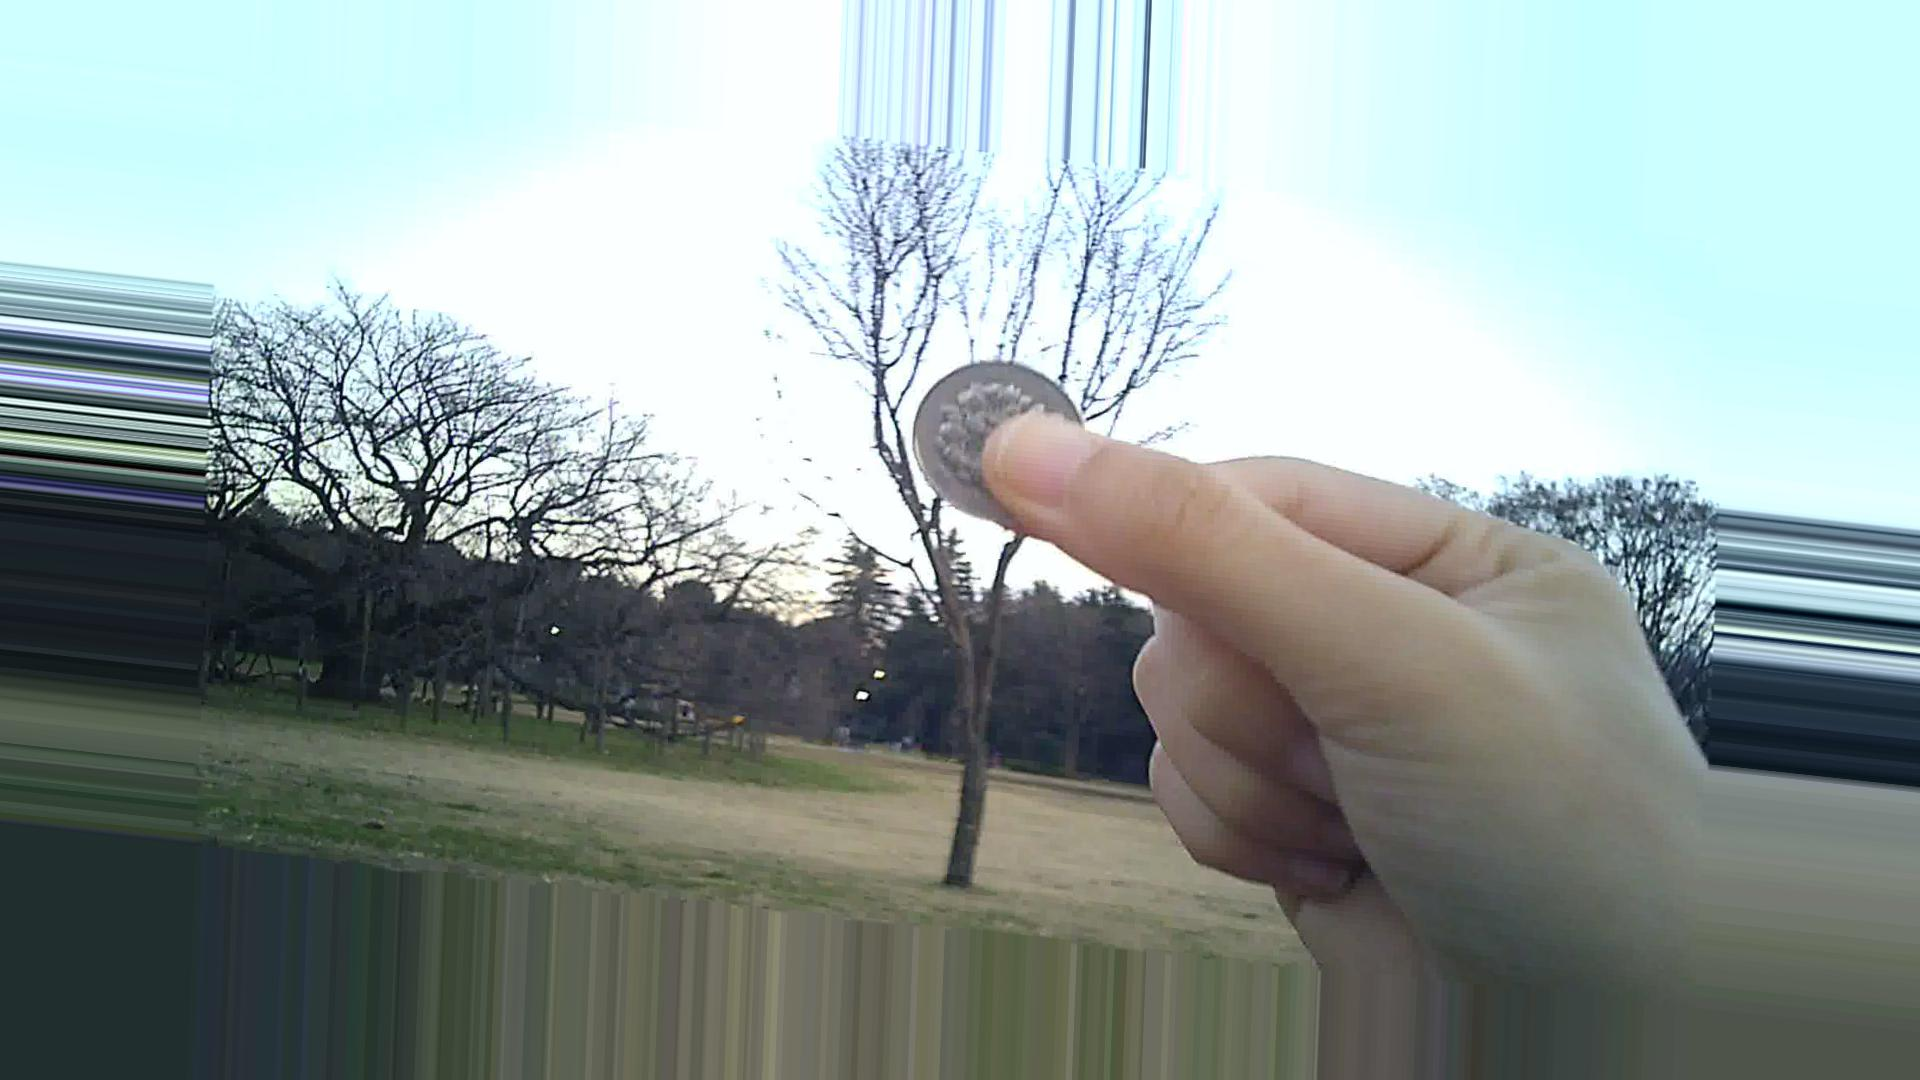100 Yen: (903, 352, 1076, 531)
